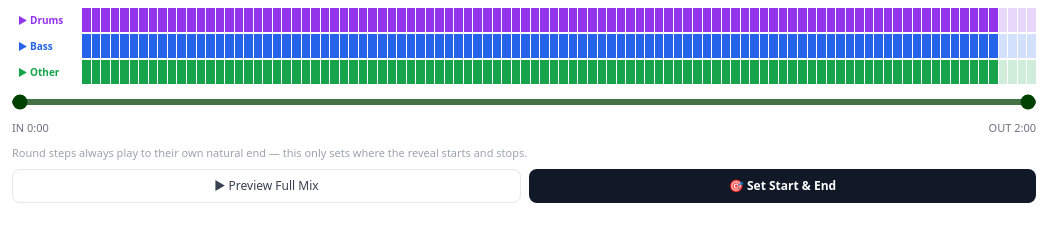
Test: <BendleOffsetScrubber> › shows an error and no silent success when the save affects zero rows
Click the button "🎯 Set Start & End" at [782, 186], box [529,169,1036,203]
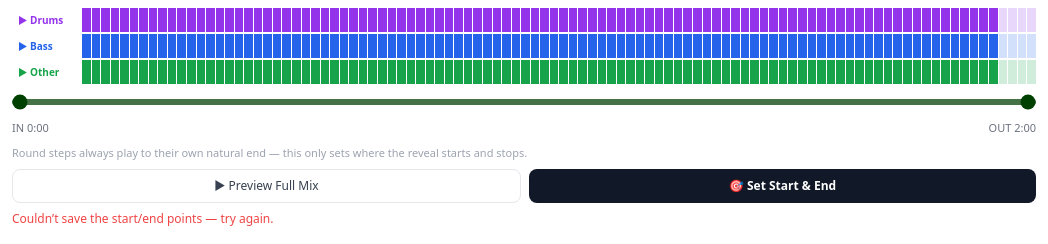
Expected: the text "Couldn’t save the start/end points" is shown, [12,210,274,227]
